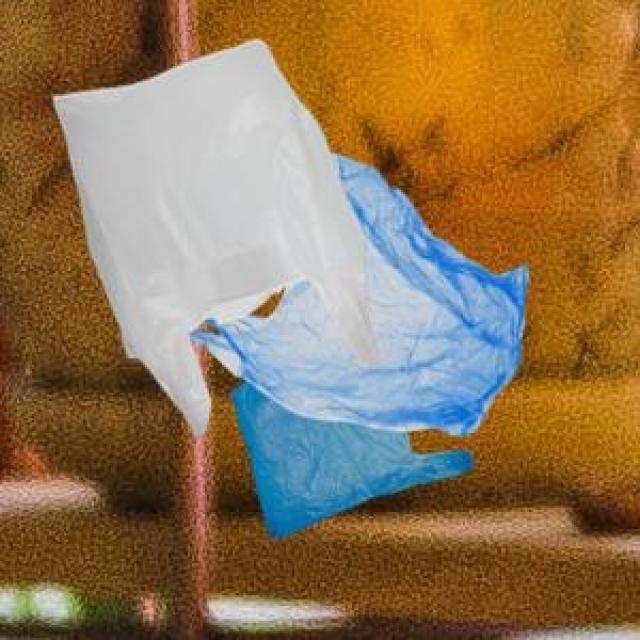waste: (54, 40, 528, 533)
